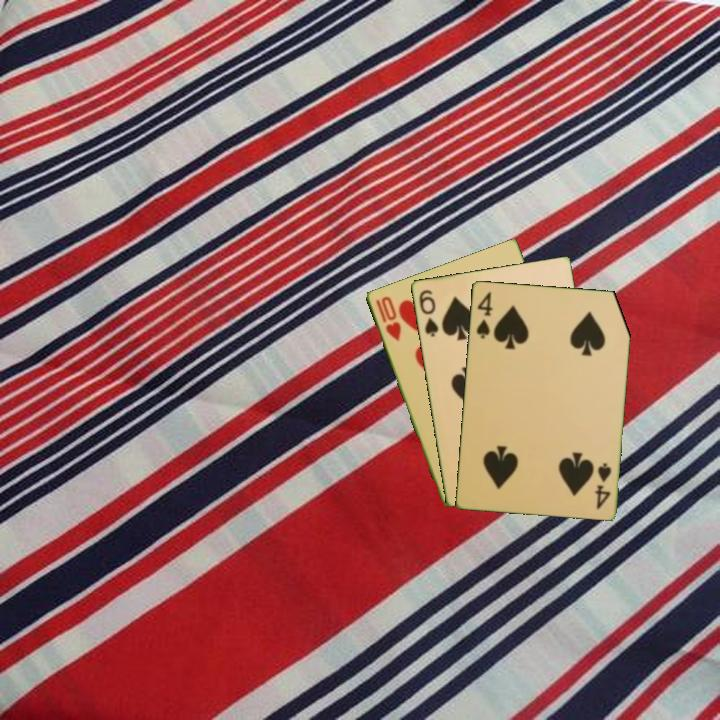10h: (372, 292, 404, 344)
4s: (591, 459, 614, 511), (473, 288, 495, 341)
6s: (415, 286, 441, 340)
